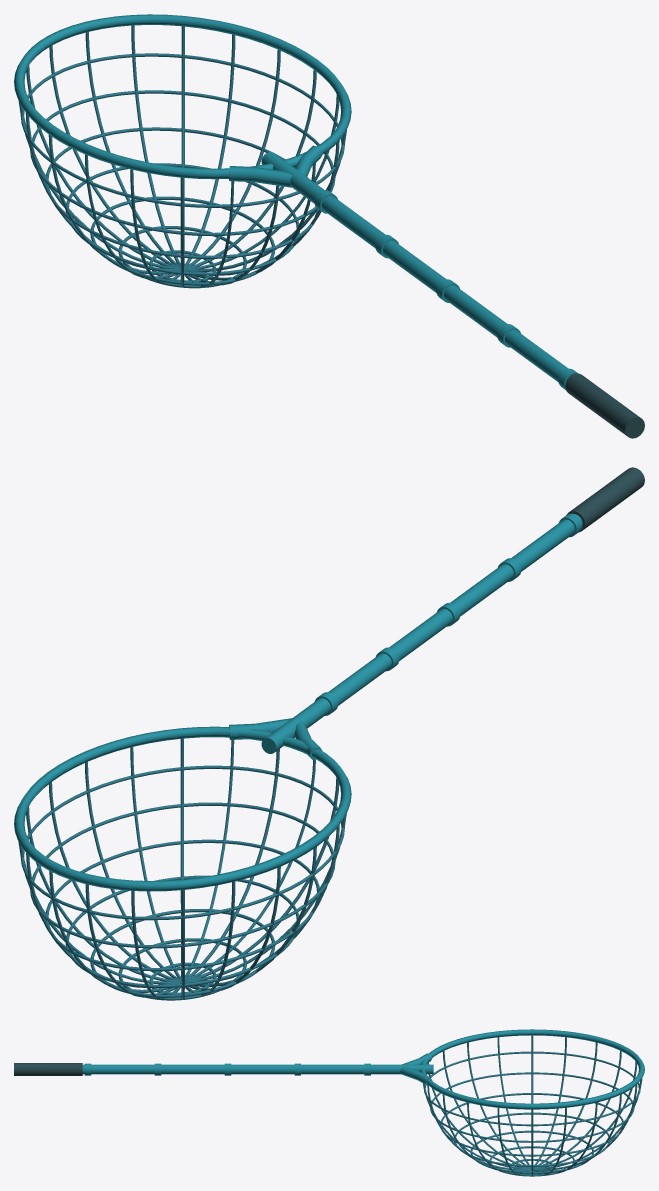
The model's file is A-NEW-20261027-SCOOP-NET-001_LOD1_R1.fbx.
The picture shows the model from 3 angles, top to bottom: view 1: azimuth 30°, elevation 25°; view 2: azimuth 150°, elevation 25°; view 3: azimuth 270°, elevation 25°; orthographic projection. The views are drawn at different scales.
Parts seen in each view (by area): view 1: continuous oval hoop, continuous long handle, bag latitude 1, bag latitude 2, rounded terminal grip, bag latitude 3, bag latitude 4, bag meridian 6, bag meridian 5, bag meridian 1, bag meridian 0, bag meridian 2 (+8 smaller); view 2: continuous oval hoop, continuous long handle, bag latitude 1, bag latitude 2, bag latitude 3, rounded terminal grip, bag latitude 4, bag meridian 0, bag meridian 5, bag meridian 4, bag meridian 9, bag meridian 8 (+6 smaller); view 3: continuous long handle, continuous oval hoop, bag latitude 1, bag latitude 2, rounded terminal grip, bag latitude 3, bag latitude 4, bag latitude 5, bag meridian 6, bag meridian 7, bag meridian 3, bag meridian 8 (+8 smaller).
Boxes of the visible parts, <box> form: continuous oval hoop: <box>14,14,351,179</box>; continuous long handle: <box>261,152,568,382</box>; bag latitude 1: <box>20,53,344,207</box>; bag latitude 2: <box>30,90,335,236</box>; rounded terminal grip: <box>565,373,644,438</box>; bag latitude 3: <box>46,127,318,258</box>; bag latitude 4: <box>65,163,299,275</box>; bag meridian 6: <box>49,45,315,280</box>; bag meridian 5: <box>85,32,279,285</box>; bag meridian 1: <box>85,49,280,278</box>; bag meridian 0: <box>48,70,316,274</box>; bag meridian 2: <box>130,34,235,284</box>; continuous oval hoop: <box>14,726,351,891</box>; continuous long handle: <box>261,514,582,753</box>; bag latitude 1: <box>20,765,344,920</box>; bag latitude 2: <box>30,802,335,948</box>; bag latitude 3: <box>45,839,319,971</box>; rounded terminal grip: <box>566,467,644,532</box>; bag latitude 4: <box>65,875,299,987</box>; bag meridian 0: <box>49,782,316,987</box>; bag meridian 5: <box>85,749,279,997</box>; bag meridian 4: <box>49,760,315,992</box>; bag meridian 9: <box>85,762,280,990</box>; bag meridian 8: <box>130,747,235,996</box>; continuous long handle: <box>82,1064,433,1074</box>; continuous oval hoop: <box>420,1029,644,1109</box>; bag latitude 1: <box>424,1051,640,1126</box>; bag latitude 2: <box>430,1072,634,1142</box>; rounded terminal grip: <box>14,1063,82,1075</box>; bag latitude 3: <box>440,1093,623,1156</box>; bag latitude 4: <box>454,1112,610,1166</box>; bag latitude 5: <box>470,1130,593,1173</box>; bag meridian 6: <box>427,1061,637,1170</box>; bag meridian 7: <box>442,1051,621,1171</box>; bag meridian 3: <box>442,1050,621,1171</box>; bag meridian 8: <box>467,1042,597,1173</box>.
Size of the model in its own units: 66.2 by 42.75 by 230.
